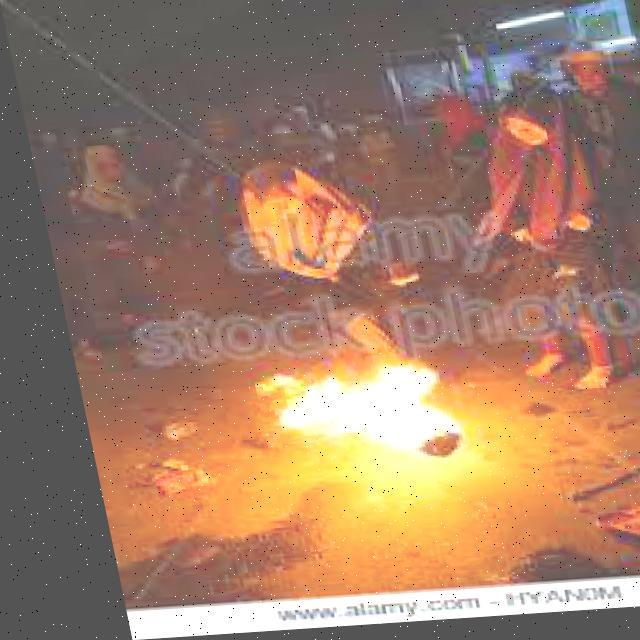Fire: (220, 331, 473, 470)
